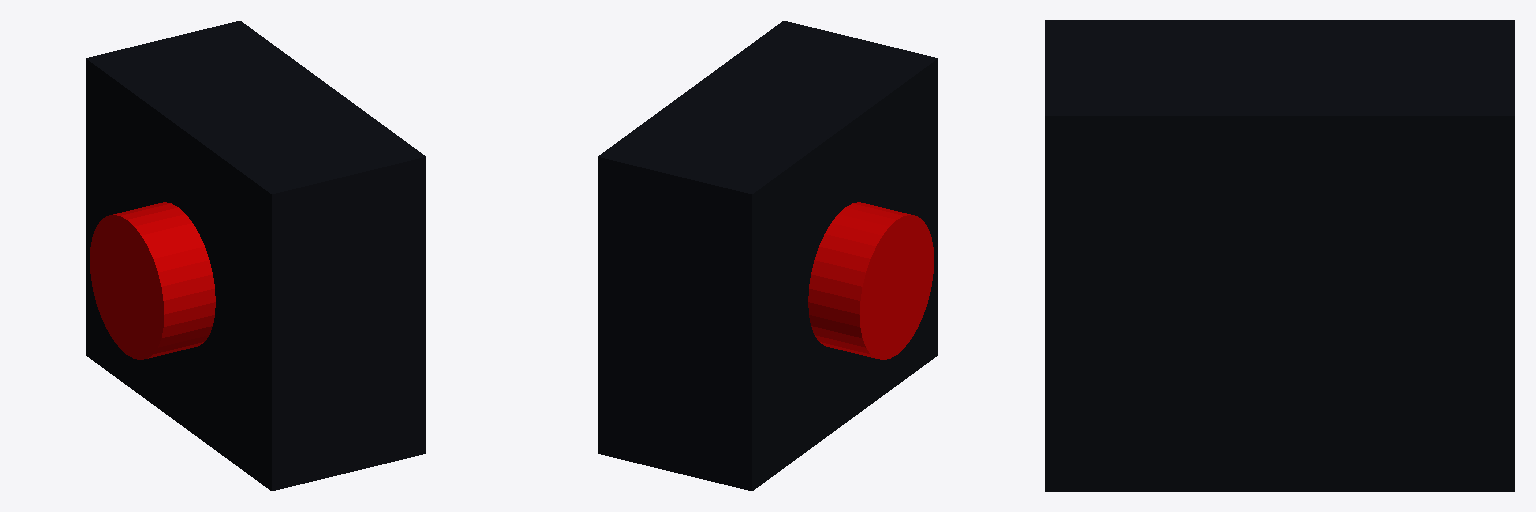
robot.urdf — llm_spring_button:
<?xml version="1.0"?>
<!--
  Repository-authored spring-return push button for language-conditioned tasks.
  The button moves along +X, into the housing, through a 25 mm stroke.
-->
<robot name="llm_spring_button">
  <material name="housing_dark">
    <color rgba="0.08 0.09 0.11 1.0"/>
  </material>
  <material name="button_red">
    <color rgba="0.80 0.03 0.03 1.0"/>
  </material>

  <link name="housing">
    <inertial>
      <origin xyz="0 0 0" rpy="0 0 0"/>
      <mass value="2.0"/>
      <inertia ixx="0.0182" ixy="0" ixz="0" iyy="0.0083" iyz="0" izz="0.0125"/>
    </inertial>
    <visual>
      <origin xyz="0 0 0" rpy="0 0 0"/>
      <geometry>
        <box size="0.12 0.25 0.22"/>
      </geometry>
      <material name="housing_dark"/>
    </visual>
    <collision>
      <origin xyz="0 0 0" rpy="0 0 0"/>
      <geometry>
        <box size="0.12 0.25 0.22"/>
      </geometry>
    </collision>
  </link>

  <link name="button">
    <inertial>
      <origin xyz="0 0 0" rpy="0 0 0"/>
      <mass value="0.08"/>
      <inertia ixx="0.000054" ixy="0" ixz="0" iyy="0.000027" iyz="0" izz="0.000027"/>
    </inertial>
    <visual>
      <origin xyz="0 0 0" rpy="0 1.57079632679 0"/>
      <geometry>
        <cylinder radius="0.05" length="0.04"/>
      </geometry>
      <material name="button_red"/>
    </visual>
    <collision>
      <origin xyz="0 0 0" rpy="0 1.57079632679 0"/>
      <geometry>
        <cylinder radius="0.05" length="0.04"/>
      </geometry>
    </collision>
  </link>

  <joint name="button_joint" type="prismatic">
    <parent link="housing"/>
    <child link="button"/>
    <origin xyz="-0.08 0 0" rpy="0 0 0"/>
    <axis xyz="1 0 0"/>
    <limit lower="0.0" upper="0.025" effort="80.0" velocity="0.50"/>
    <dynamics damping="4.0" friction="0.2"/>
  </joint>
</robot>

--- Facts derived from the render (not from the file) ---
The picture shows the robot from 3 angles, left to right: view 1: azimuth 30°, elevation 25°; view 2: azimuth 150°, elevation 25°; view 3: azimuth 270°, elevation 25°; orthographic projection.
Robot: llm_spring_button — 2 links, 1 joints (1 prismatic); root link housing; default pose: every joint at zero.
Links seen in each view (by area): view 1: housing, button; view 2: housing, button; view 3: housing.
Boxes of the visible links, x1,y1,x2,y2 form: housing: (86, 21, 425, 490); button: (90, 202, 215, 359); housing: (598, 21, 937, 490); button: (808, 202, 933, 359); housing: (1045, 20, 1514, 491).
Size in the robot's own frame: 0.16 by 0.25 by 0.22 metres.
Geometry: primitives only (box / cylinder / sphere), no mesh files.
